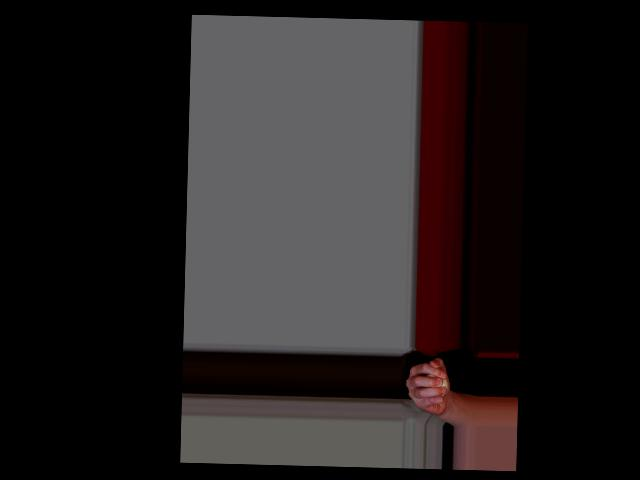egg: (424, 371, 448, 396)
